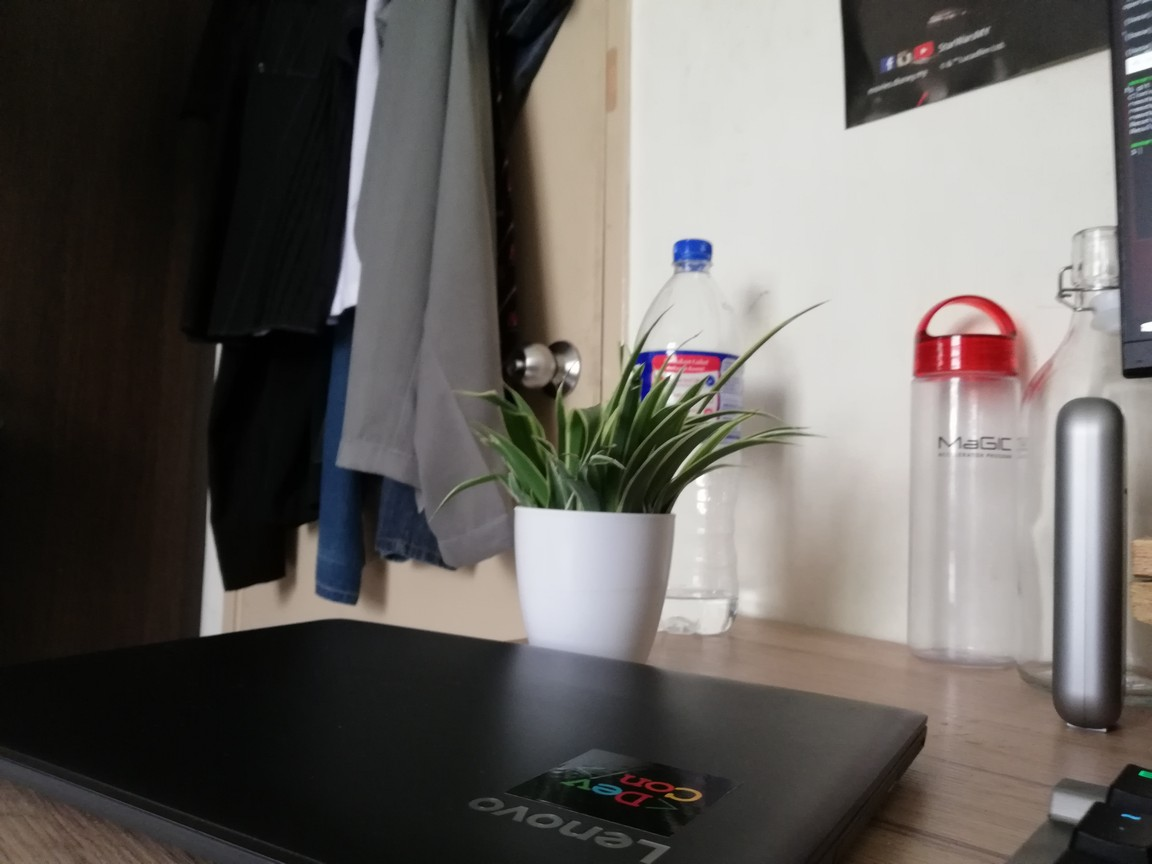daun: (717, 297, 833, 390), (418, 471, 499, 526), (629, 301, 678, 347), (551, 354, 581, 407), (470, 415, 503, 459), (665, 329, 707, 363), (445, 384, 502, 408), (459, 426, 497, 458), (698, 460, 748, 484), (712, 406, 787, 421), (502, 375, 532, 411), (623, 360, 648, 401), (645, 373, 671, 405), (736, 438, 805, 450), (592, 453, 629, 474), (753, 430, 832, 439), (684, 373, 711, 399), (670, 362, 687, 396)
